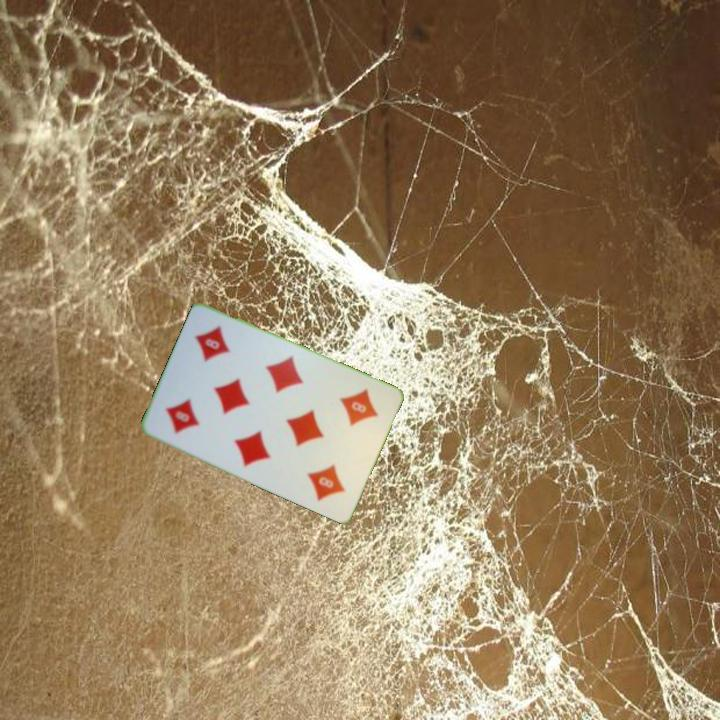d_8.png: (150, 368, 228, 451), (315, 374, 393, 456)
